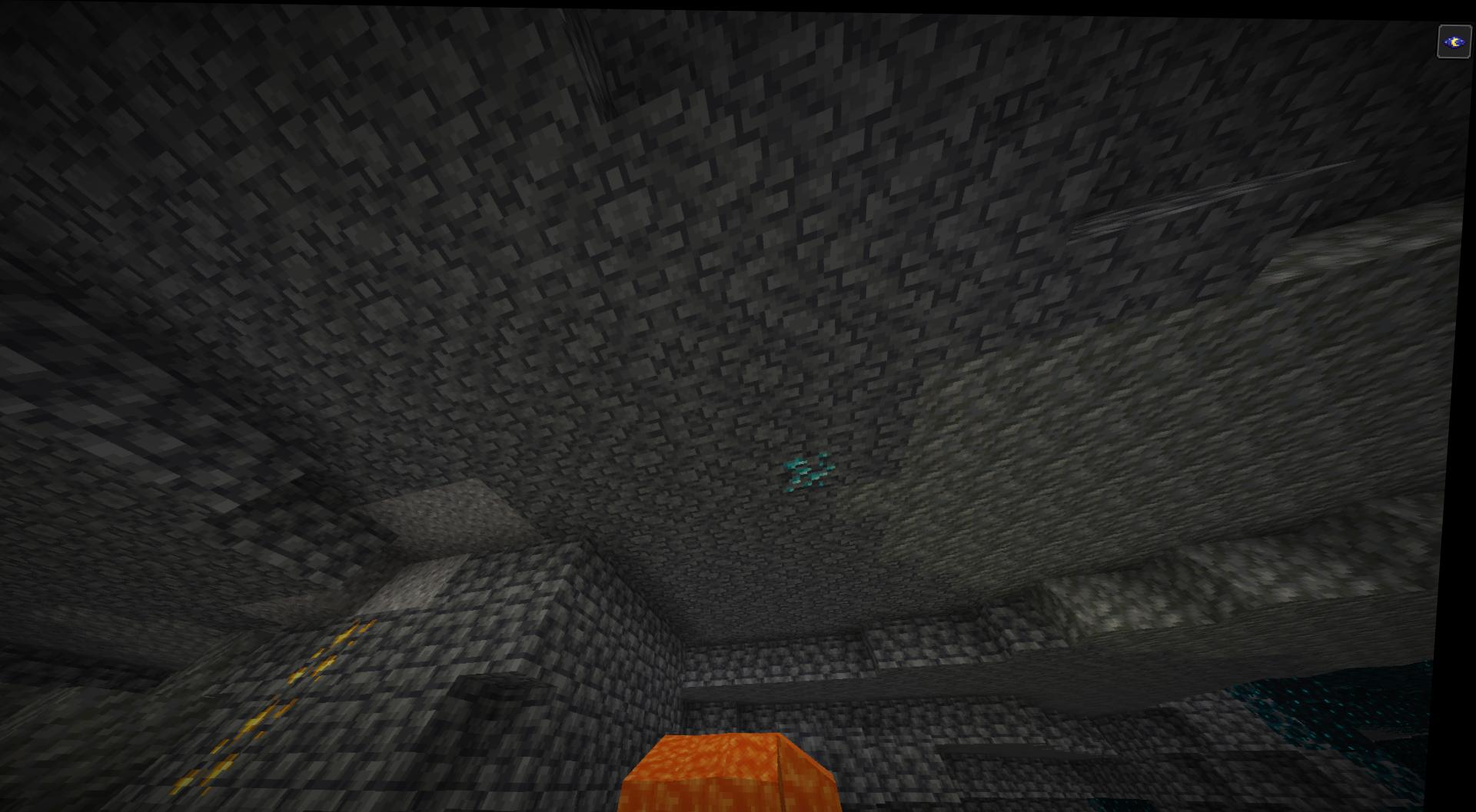diamond ore: (792, 446, 843, 492)
gold ore: (190, 692, 302, 793), (297, 614, 381, 681)
